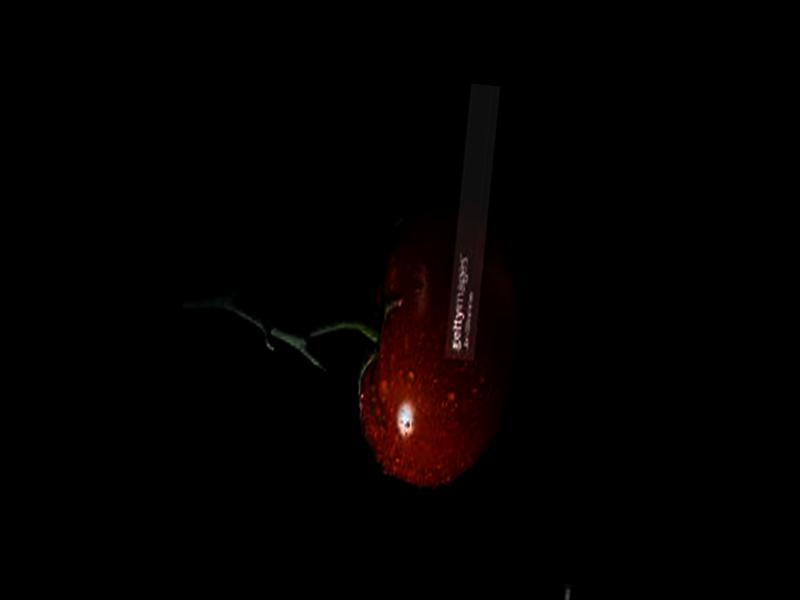Tomato: (353, 207, 525, 493)
